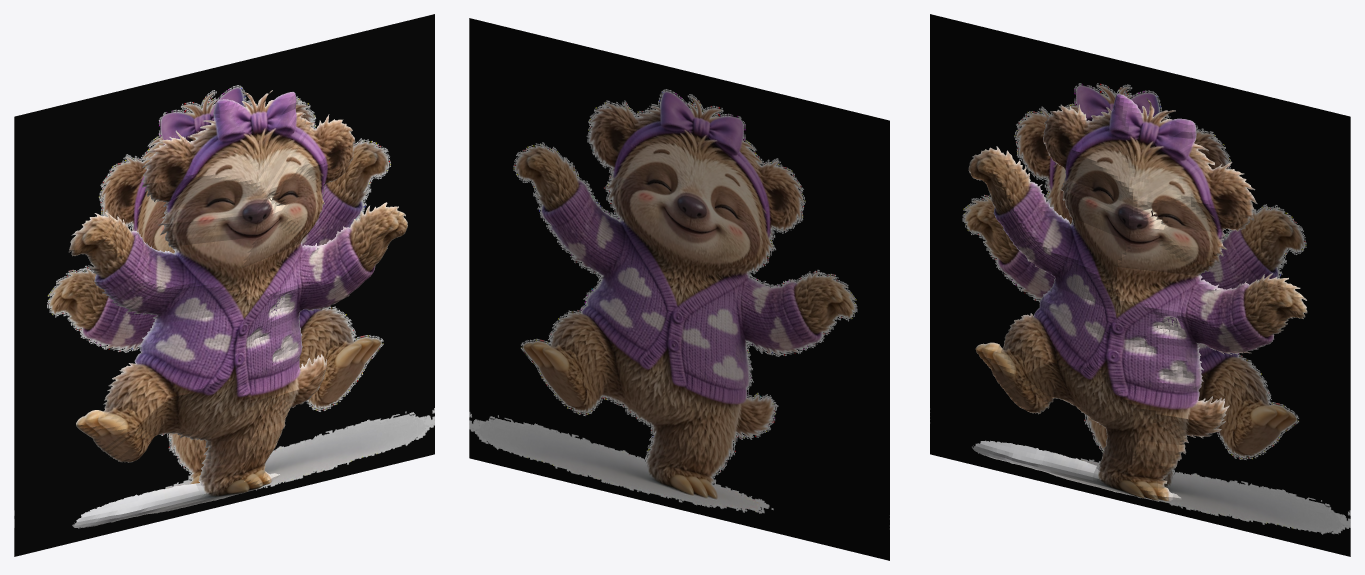
Rendered from WhatsApp_Image_2026-10-28_at_08_12_06.obj.
3 renders of one model, left to right at view 1: azimuth 30°, elevation 25°; view 2: azimuth 150°, elevation 25°; view 3: azimuth 330°, elevation 25°, orthographic.
Bounding box in the file's own units: 2 × 2 × 0.19.
2 materials, 2 textured.
